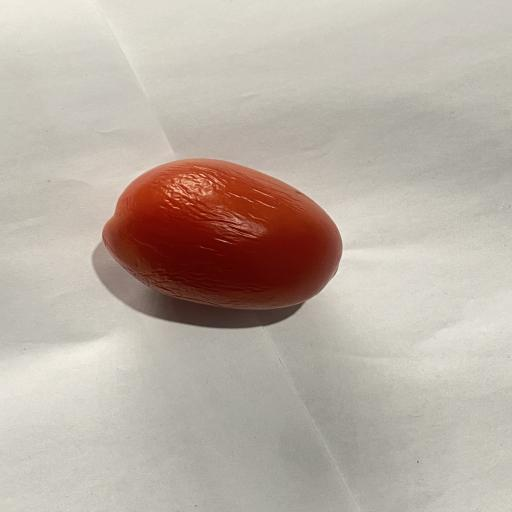spoiled: (103, 159, 342, 309)
